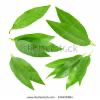Peach leaf: (8, 4, 51, 32), (46, 18, 90, 45), (55, 6, 87, 36), (9, 55, 34, 91), (54, 56, 84, 80), (21, 58, 46, 85), (13, 41, 50, 57), (78, 51, 93, 85), (32, 38, 64, 52), (43, 58, 71, 70), (66, 67, 78, 90)
